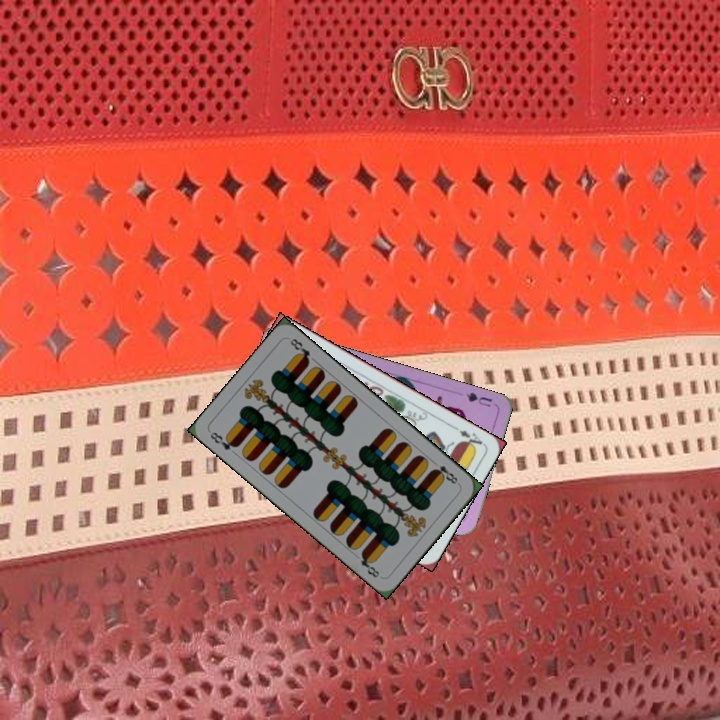E8: (428, 457, 462, 488), (206, 428, 241, 453)
EA: (449, 422, 485, 451)
GU: (462, 388, 495, 410)
